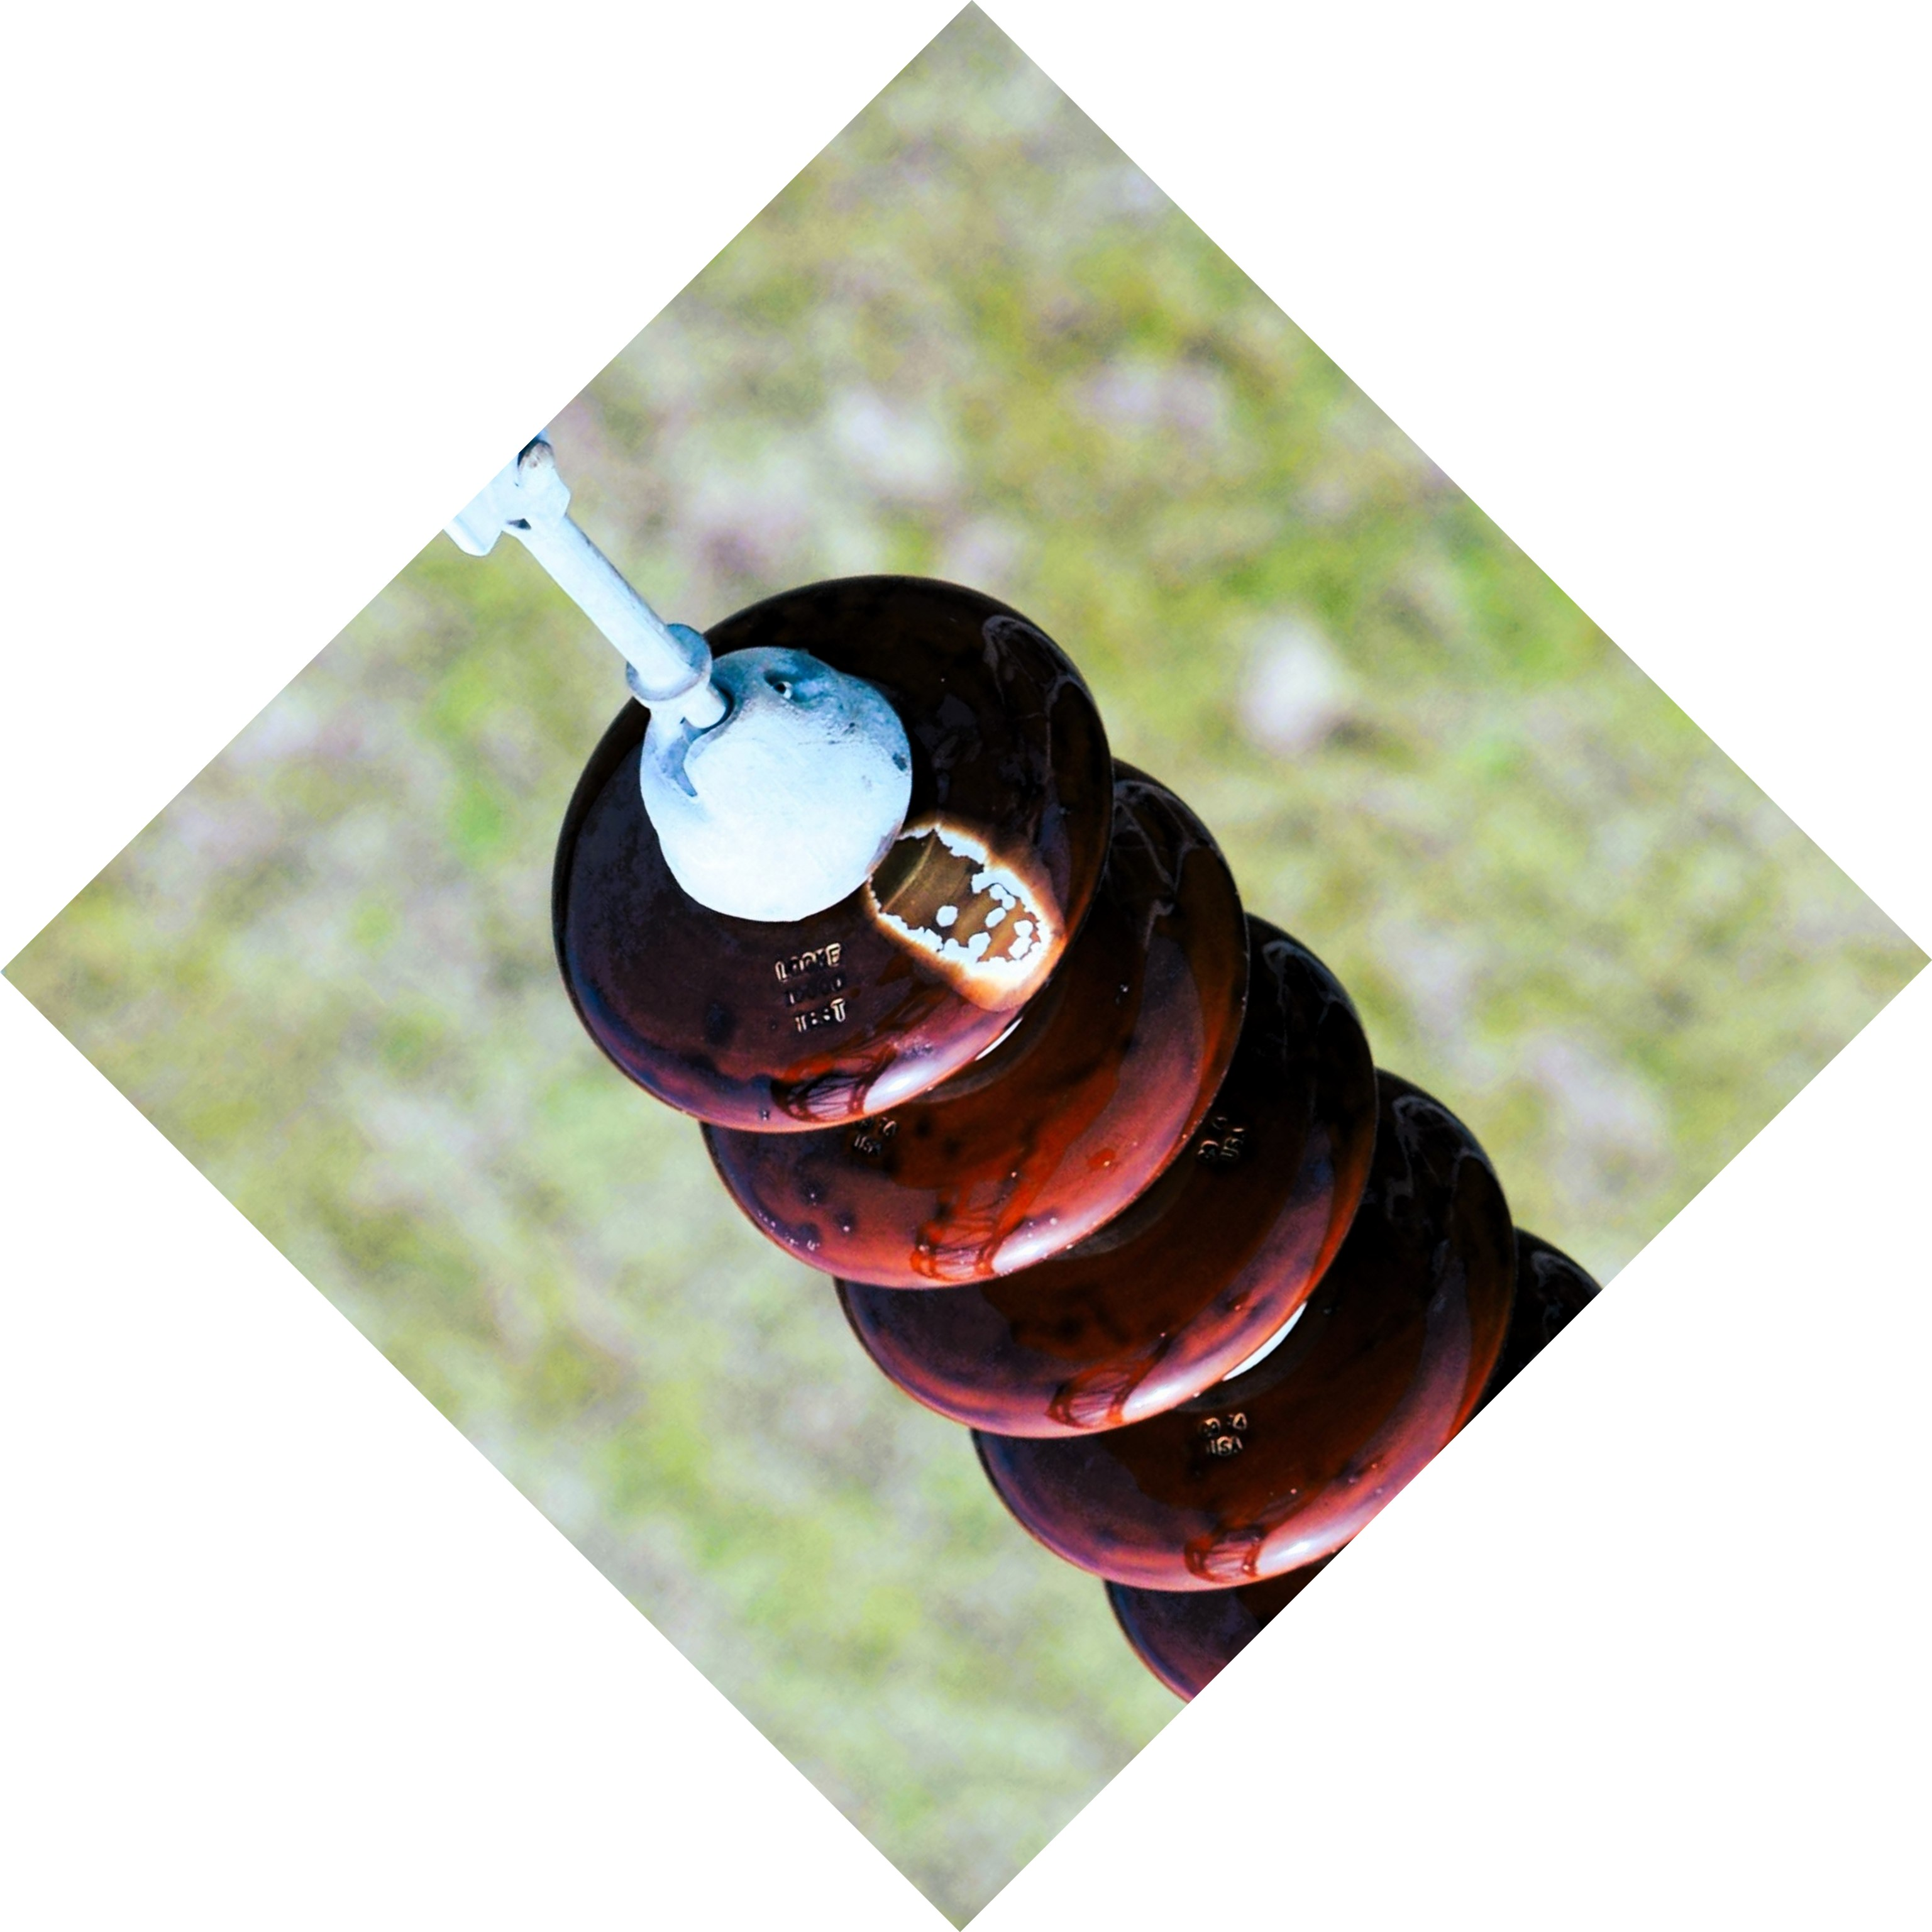Insulator flashover: (543, 561, 1127, 1155)
